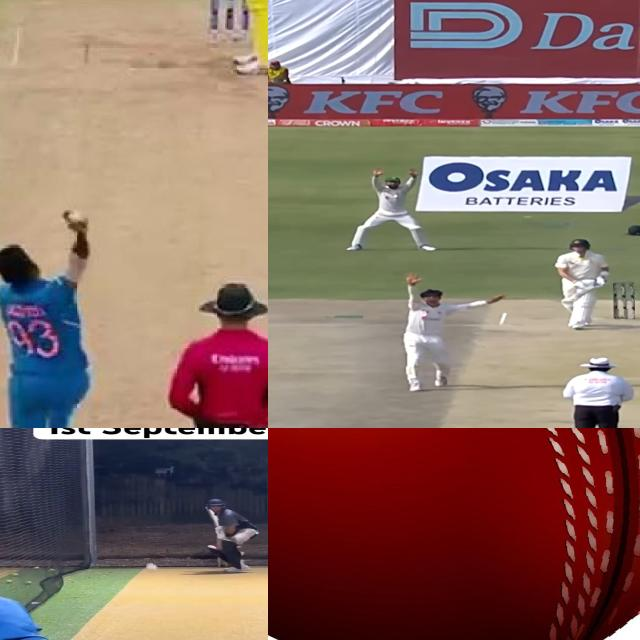Cricket ball: (268, 428, 640, 640), (65, 207, 89, 224), (146, 564, 158, 572)
Stumps: (614, 282, 636, 319)
